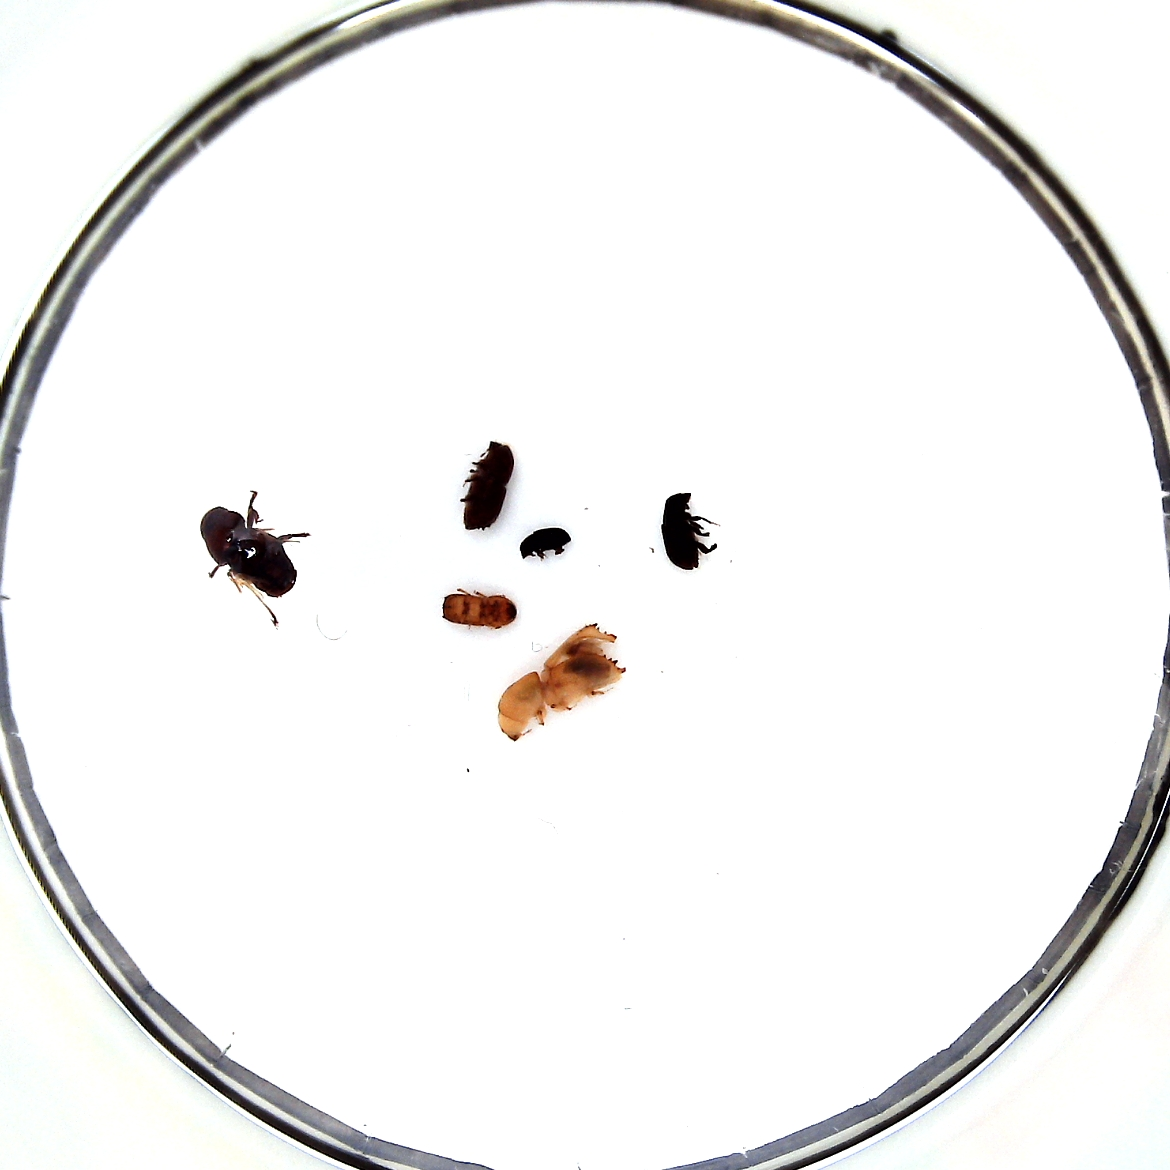Boerner: (498, 624, 625, 742)
Leconte: (200, 505, 296, 598)
acuminatus: (519, 527, 572, 559)
armandi: (661, 493, 701, 570)
linnaeus: (464, 440, 515, 531), (442, 589, 517, 628)
